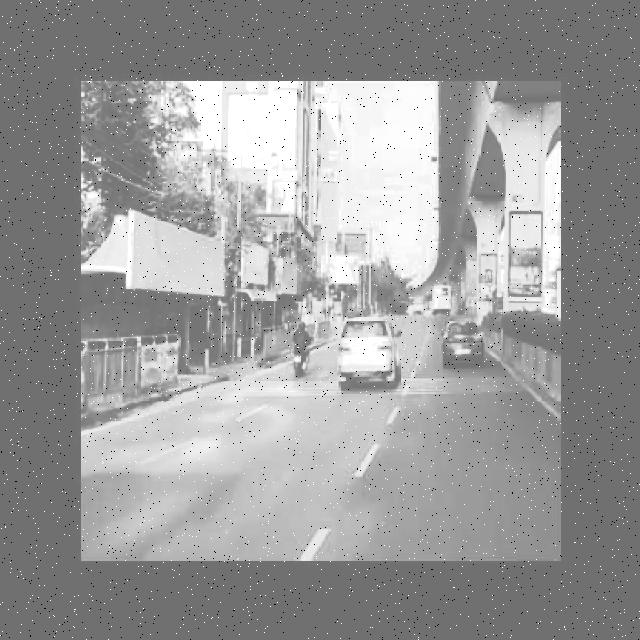Car: (332, 304, 408, 414), (437, 301, 492, 384)
